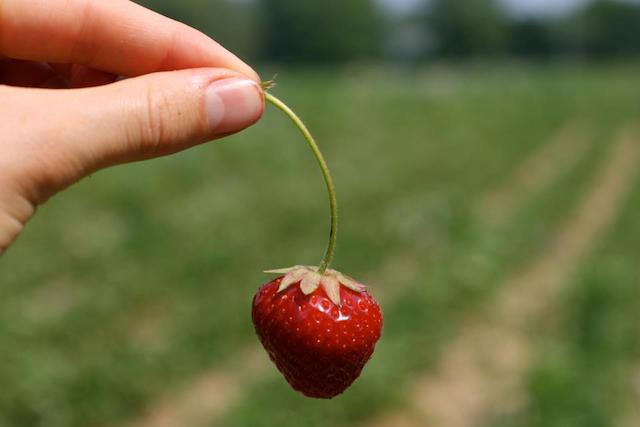ripe: (246, 259, 394, 406)
